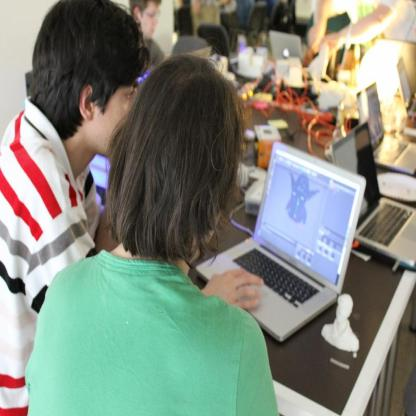board: (206, 132, 366, 381), (330, 122, 416, 268), (357, 82, 416, 174), (396, 57, 416, 118), (269, 31, 303, 63)
